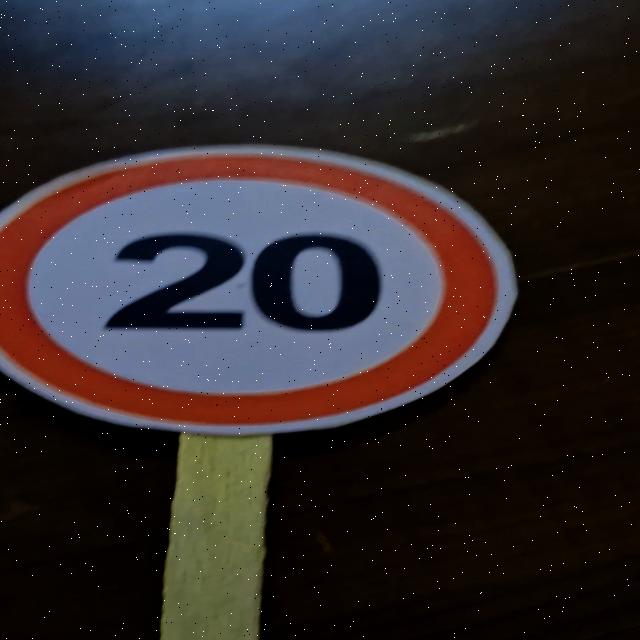Speed20: (0, 127, 524, 445)
